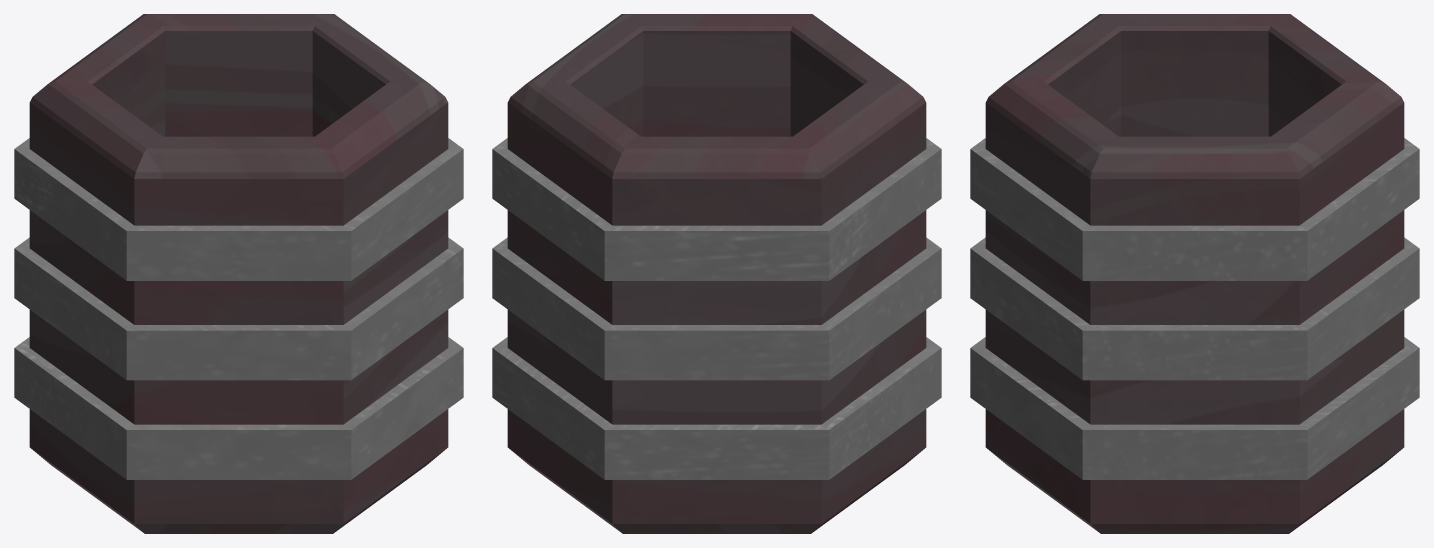
File: Barrel.fbx
3 renders of one model, left to right at view 1: azimuth 30°, elevation 25°; view 2: azimuth 150°, elevation 25°; view 3: azimuth 270°, elevation 25°, orthographic.
Visible parts, largest first — view 1: barrel; view 2: barrel; view 3: barrel.
Boxes of the visible parts, x1,y1,x2,y2 form: barrel: (14,14,463,533); barrel: (492,14,941,533); barrel: (970,14,1419,533).
Size of the model in its own units: 89.66 by 97.6 by 104.
